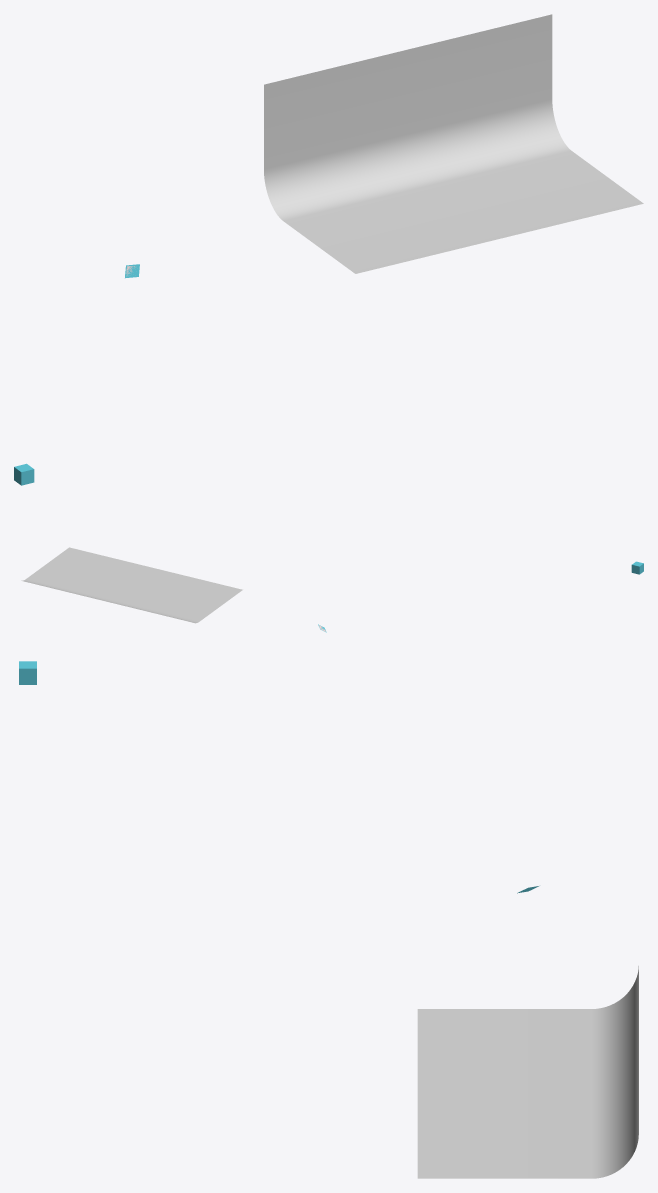
Rendered from shaibya_cube.glb.
3 views of the same model, one above another, from view 1: azimuth 30°, elevation 25°; view 2: azimuth 150°, elevation 25°; view 3: azimuth 270°, elevation 25° (orthographic). The views are drawn at different scales.
Parts seen in each view (by area): view 1: Plane.002; view 2: Plane.002; view 3: Plane.002.
Boxes of the visible parts, x1,y1,x2,y2 form: Plane.002: [264, 14, 643, 273]; Plane.002: [21, 547, 242, 623]; Plane.002: [417, 966, 638, 1178].
Size of the model in its own units: 123 by 18.24 by 69.52.
